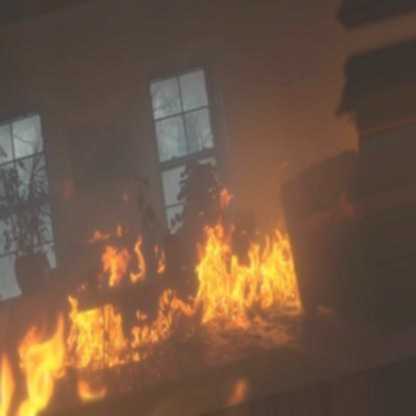fire: (0, 151, 315, 416)
